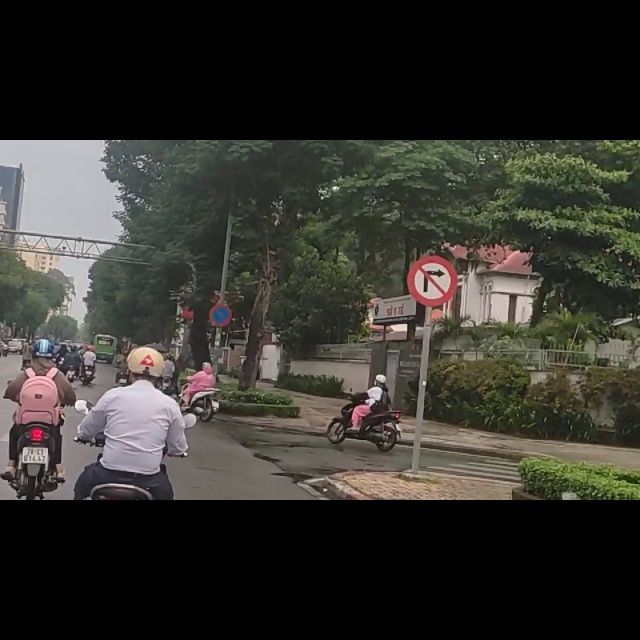bien_cam: (407, 204, 457, 297), (209, 290, 233, 332)
